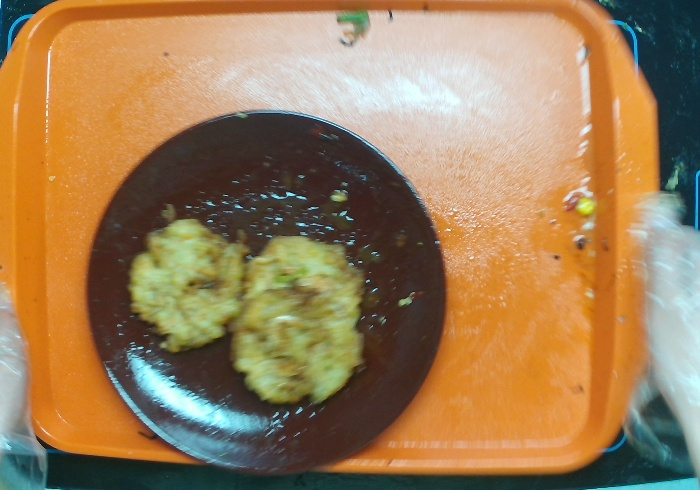HZYJPL-Ka_Fei_Yuan_Pan: (85, 111, 445, 472)
